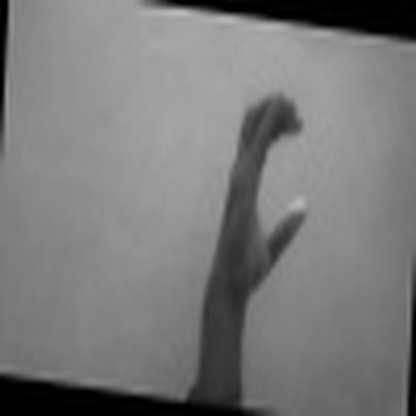c: (214, 86, 316, 284)
